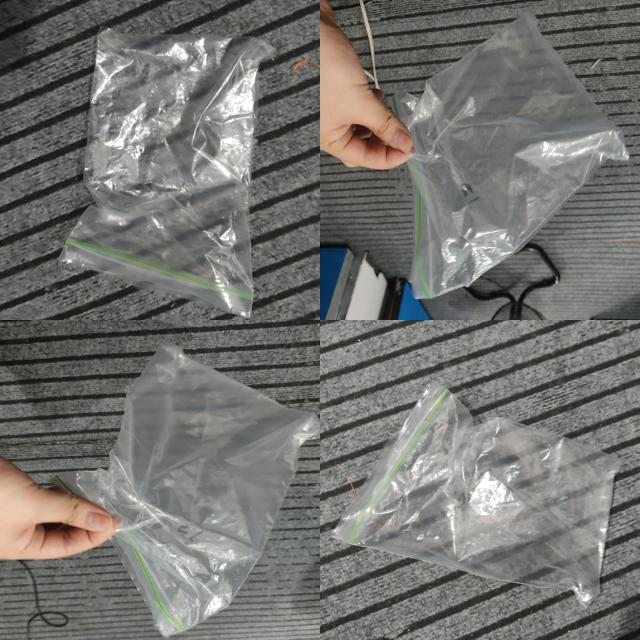Single-layer Plastic: (55, 344, 319, 636), (390, 12, 629, 299), (334, 381, 620, 605), (60, 29, 274, 316)
